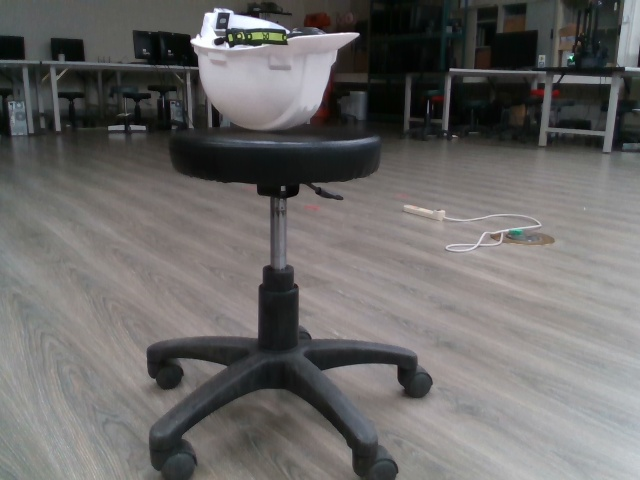helmet: (186, 6, 362, 132)
